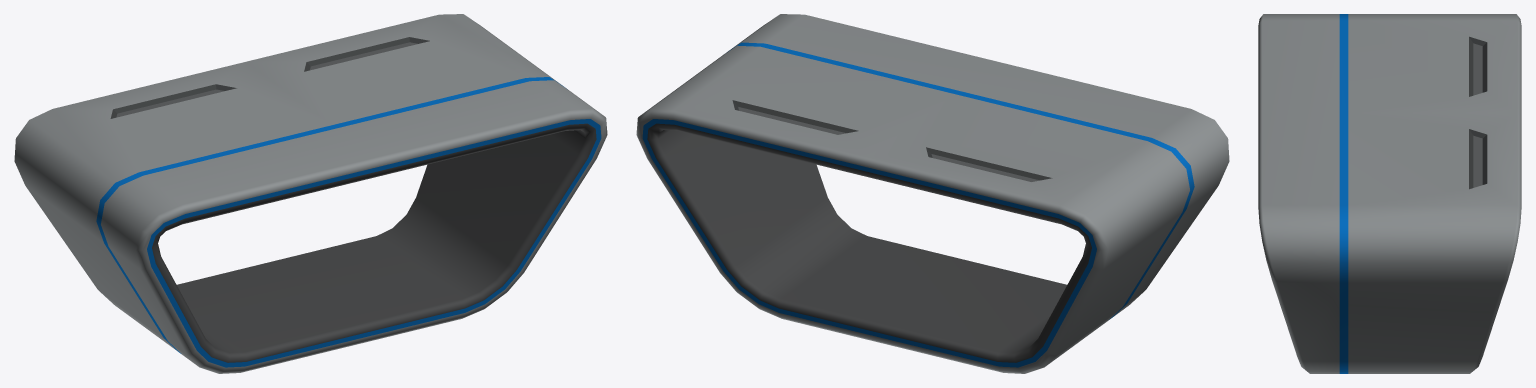
The model's file is Desk_037.fbx.
3 views of the same model, side by side, from view 1: azimuth 30°, elevation 25°; view 2: azimuth 150°, elevation 25°; view 3: azimuth 270°, elevation 25° (orthographic). The views are drawn at different scales.
Parts seen in each view (by area): view 1: Desk_037; view 2: Desk_037; view 3: Desk_037.
Part boxes in pixels (x1,y1,x2,y2): Desk_037: [14, 14, 607, 373]; Desk_037: [636, 14, 1229, 373]; Desk_037: [1258, 14, 1521, 373].
Size of the model in its own units: 203 by 99.98 by 84.83.
